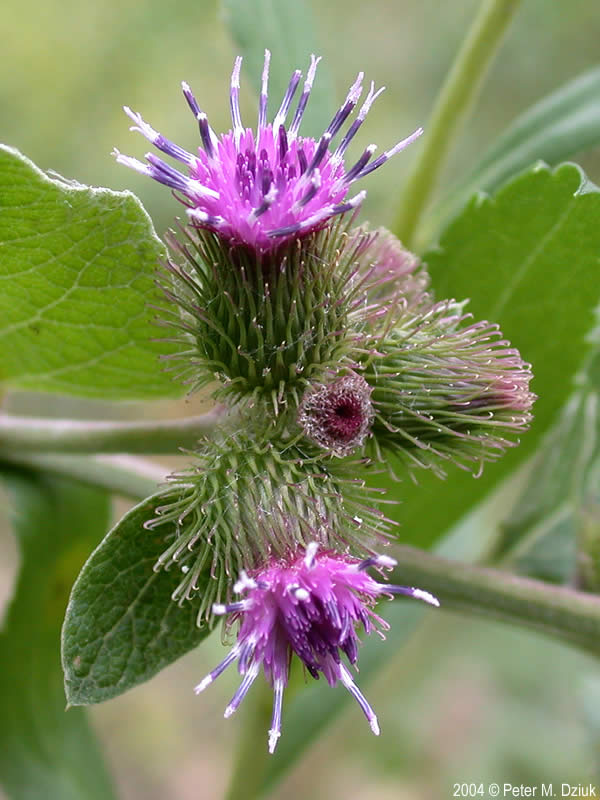thistle: (151, 415, 436, 735), (116, 57, 359, 406)
